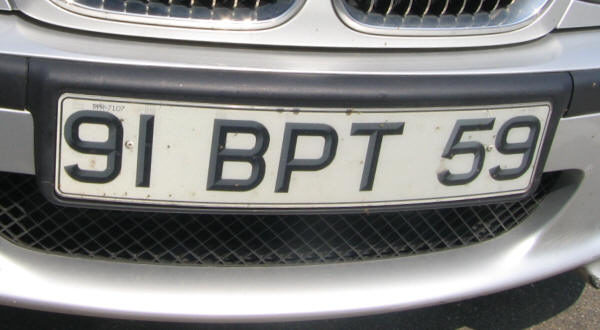license_plate: (53, 93, 553, 210)
